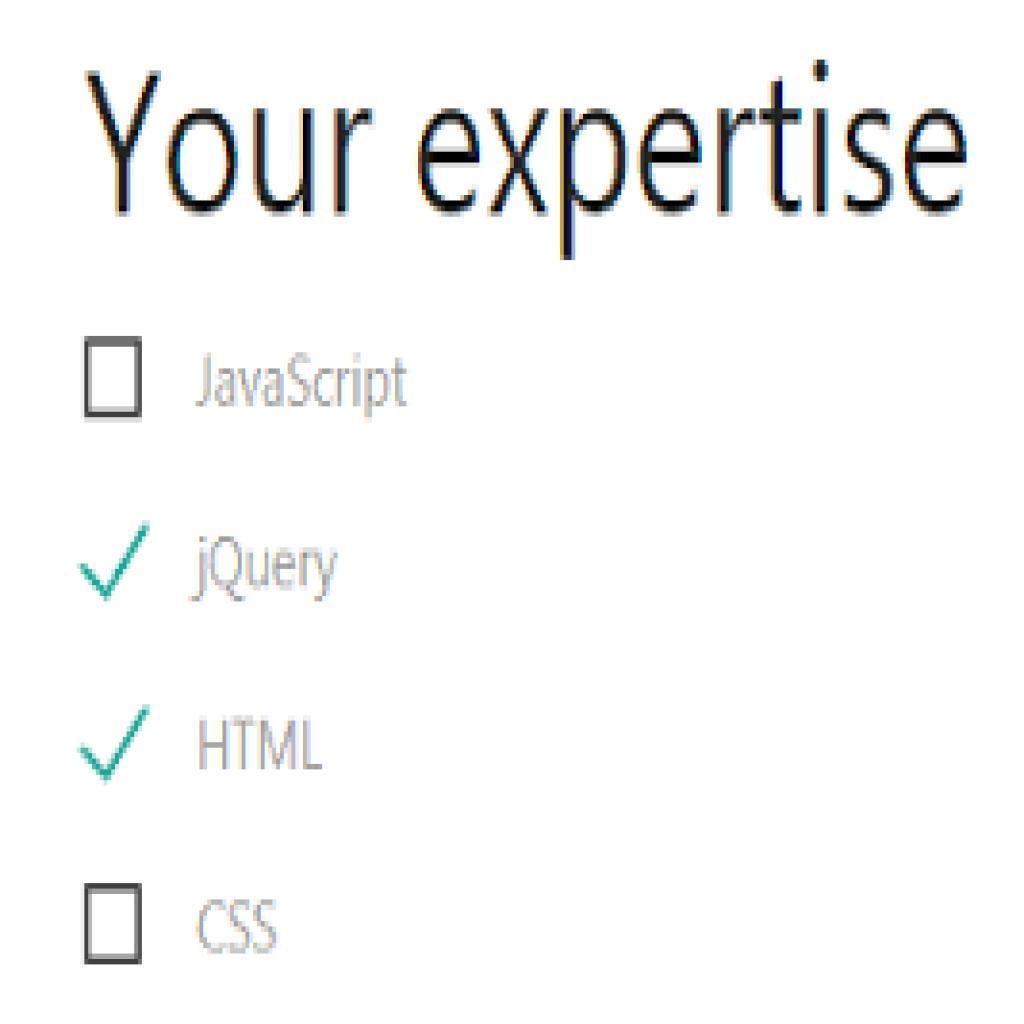checkbox: (83, 340, 146, 418), (82, 883, 141, 961)
icon: (63, 505, 154, 606), (67, 693, 151, 784)
